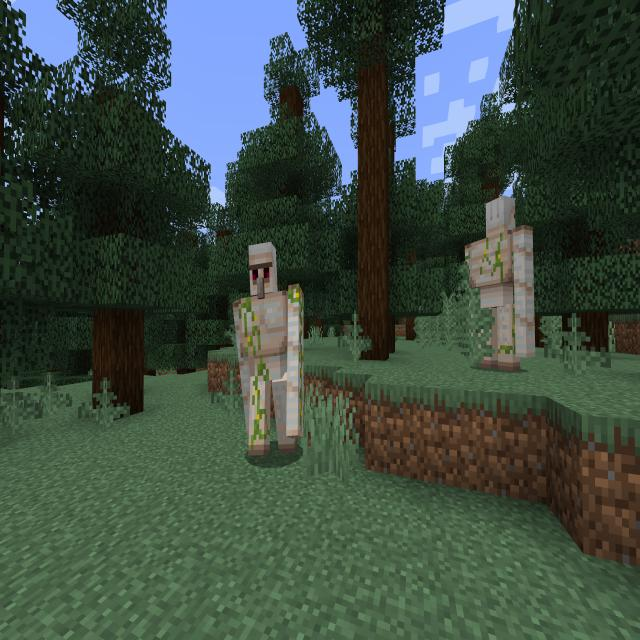Iron Golem: (231, 237, 305, 466), (464, 191, 538, 378)
